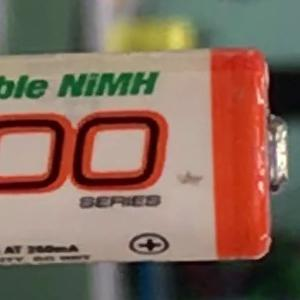NIMH: (47, 62, 169, 107)
